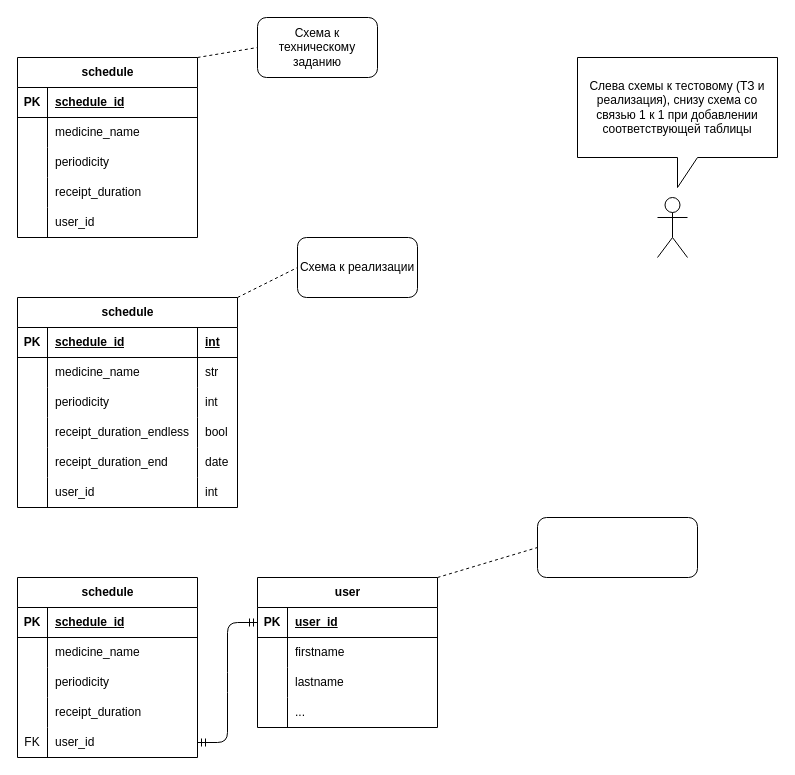
The diagram is 795 pixels wide and 775 high, and some of its shapes have lost their labels. The centre of each missing label's shape, as x and y in pixels:
здесь должна была быть корова: the point at 672,227
Схема к ТЗ с добавлением таблицы user и связи 1 к 1: the point at 617,547
